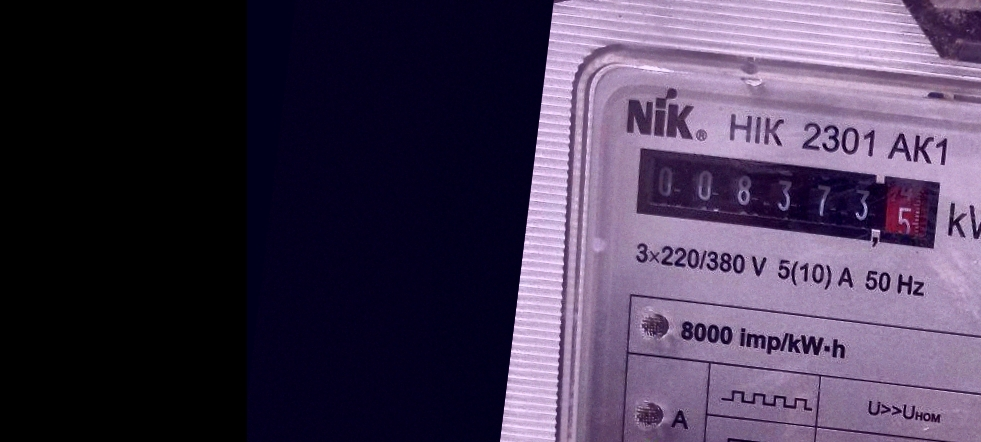0: (654, 161, 678, 200), (694, 165, 717, 203)
3: (849, 184, 876, 224), (772, 175, 797, 214)
4: (897, 182, 917, 204)
5: (894, 203, 917, 235)
7: (811, 179, 834, 220)
8: (732, 170, 757, 208)
screen: (626, 138, 951, 262)
